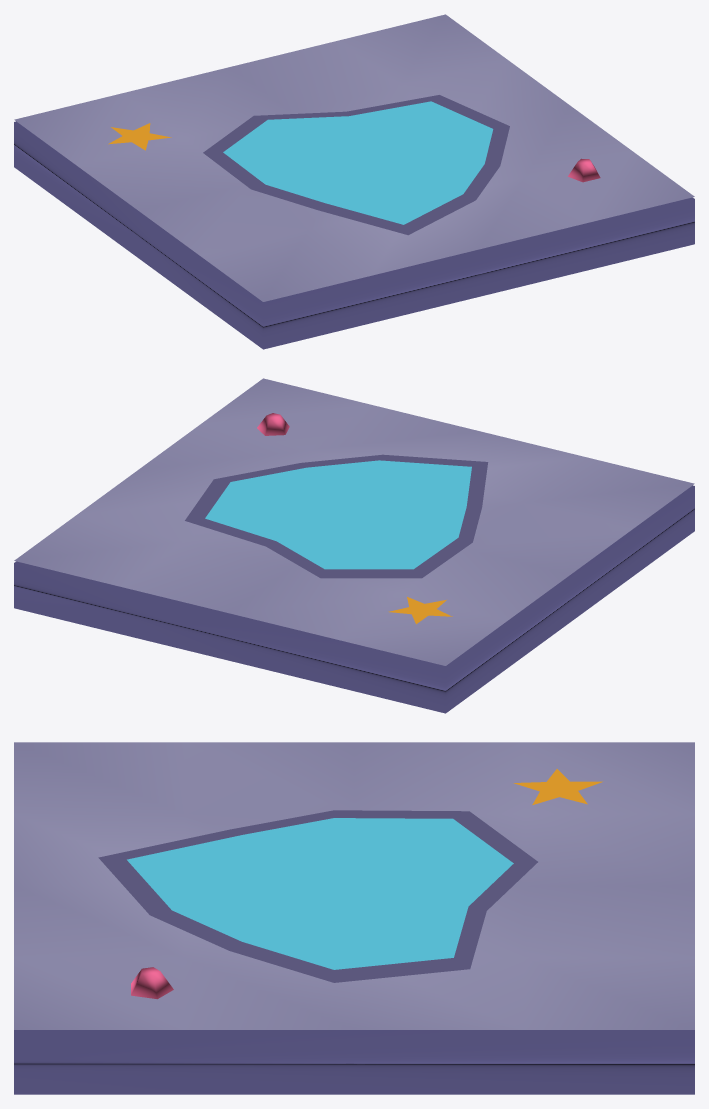
The model's file is tile_tide_pool.glb.
3 views of the same model, one above another, from view 1: azimuth 30°, elevation 25°; view 2: azimuth 150°, elevation 25°; view 3: azimuth 270°, elevation 25° (orthographic). The views are drawn at different scales.
Visible parts, largest first — view 1: Tile.001; view 2: Tile.001; view 3: Tile.001.
Part boxes in pixels (x1=…): Tile.001: x1=14, y1=14, x2=694, y2=349; Tile.001: x1=14, y1=378, x2=694, y2=713; Tile.001: x1=14, y1=742, x2=694, y2=1094.
Size of the model in its own units: 1 by 0.135 by 1.
